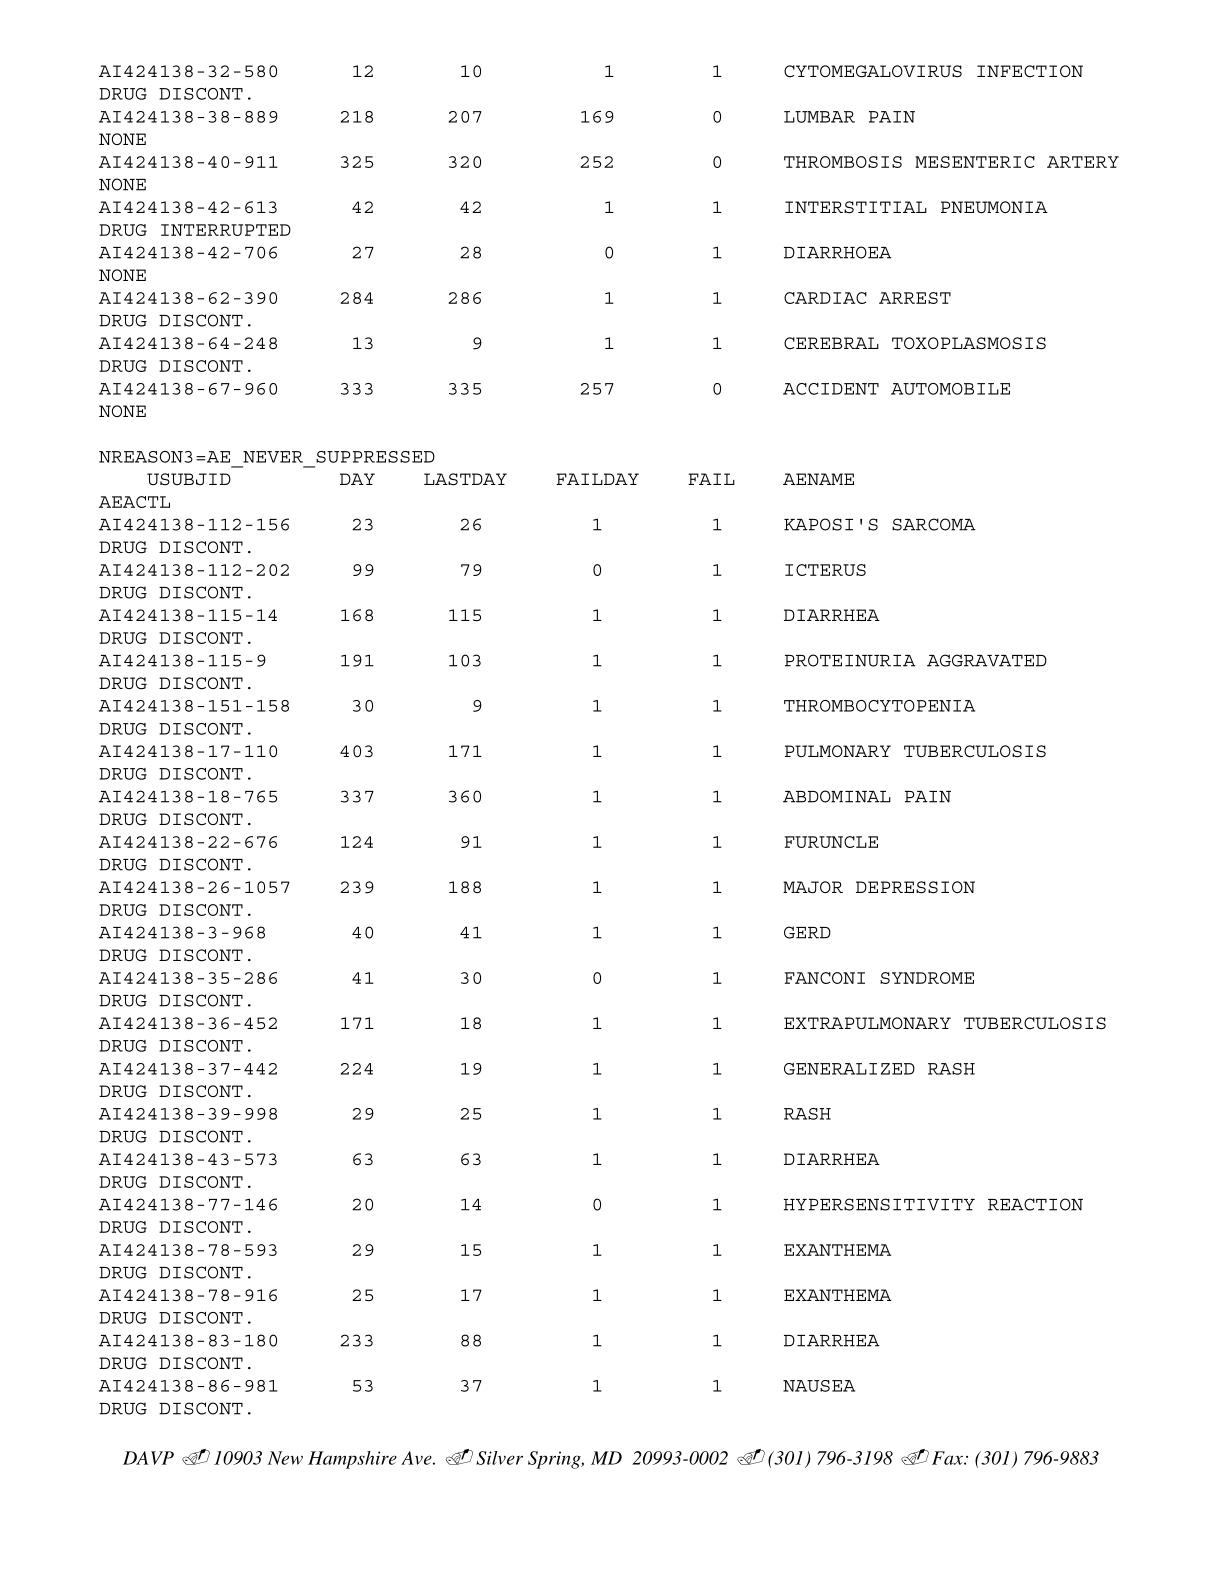nolines: (100, 468, 1108, 1421), (93, 62, 1119, 422)
